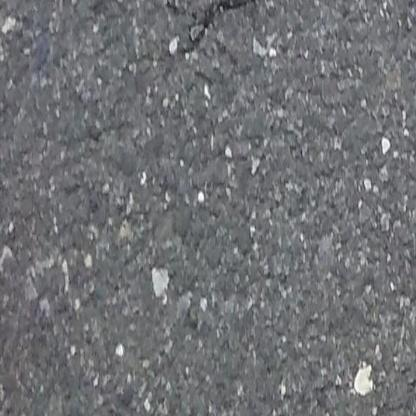Cracks: (185, 0, 286, 57)
